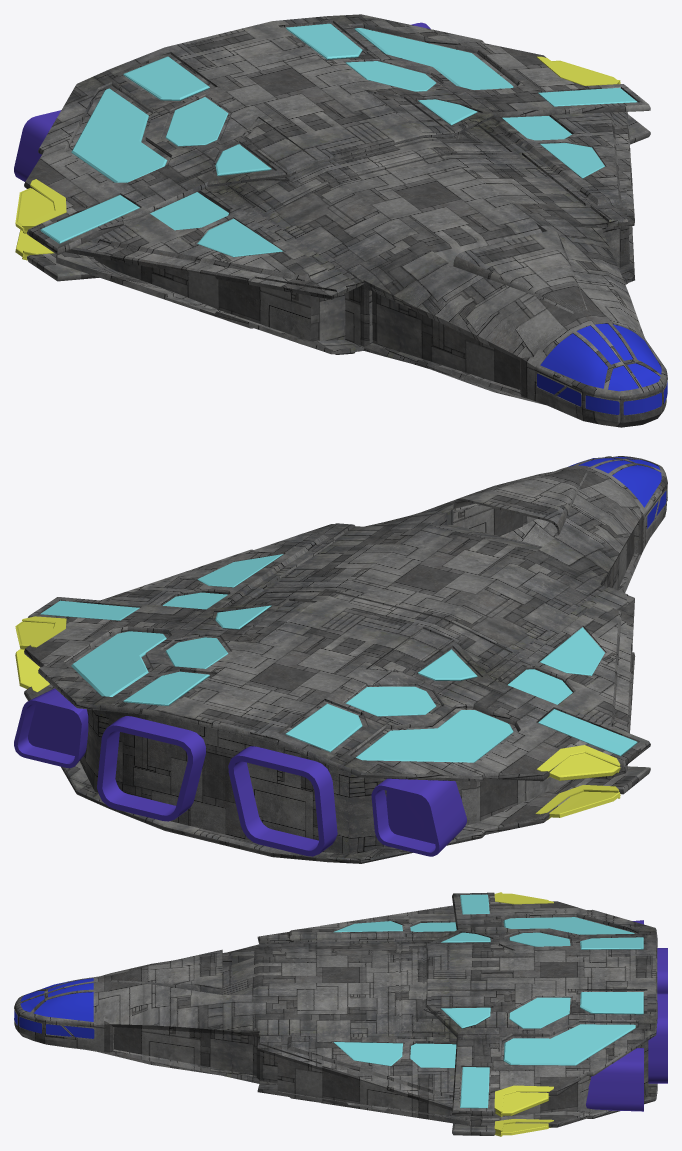
The model's file is New_HullTest.fbx.
3 renders of one model, top to bottom at view 1: azimuth 30°, elevation 25°; view 2: azimuth 150°, elevation 25°; view 3: azimuth 270°, elevation 25°, orthographic. The views are drawn at different scales.
Visible parts, largest first — view 1: ShipHull, AuxHull_PlatingPanels, Cockpit_Windows, ShipHull_Wingflaps, ThrusterCone_4; view 2: ShipHull, AuxHull_PlatingPanels, ThrusterCone_4, ShipHull_Wingflaps, ThrusterCone_3, ThrusterCone_2, ThrusterCone_1, Cockpit_Windows; view 3: ShipHull, AuxHull_PlatingPanels, Cockpit_Windows, ThrusterCone_1, ShipHull_Wingflaps, ThrusterCone_2, ThrusterCone_3.
Part boxes in pixels (bbox=[...]): ShipHull: bbox=[24, 14, 667, 427]; AuxHull_PlatingPanels: bbox=[40, 23, 637, 257]; Cockpit_Windows: bbox=[537, 323, 667, 415]; ShipHull_Wingflaps: bbox=[15, 56, 620, 260]; ThrusterCone_4: bbox=[14, 110, 61, 181]; ShipHull: bbox=[24, 456, 667, 863]; AuxHull_PlatingPanels: bbox=[40, 554, 637, 762]; ThrusterCone_4: bbox=[371, 778, 466, 856]; ShipHull_Wingflaps: bbox=[15, 616, 620, 819]; ThrusterCone_3: bbox=[228, 746, 337, 856]; ThrusterCone_2: bbox=[97, 716, 205, 821]; ThrusterCone_1: bbox=[14, 688, 88, 768]; Cockpit_Windows: bbox=[568, 457, 666, 528]; ShipHull: bbox=[14, 892, 657, 1135]; AuxHull_PlatingPanels: bbox=[333, 894, 643, 1108]; Cockpit_Windows: bbox=[14, 978, 94, 1038]; ThrusterCone_1: bbox=[586, 1048, 643, 1111]; ShipHull_Wingflaps: bbox=[494, 892, 553, 1136]; ThrusterCone_2: bbox=[648, 993, 667, 1083]; ThrusterCone_3: bbox=[657, 948, 667, 993].
Bounding box in the file's own units: 3885 × 772 × 4886.
